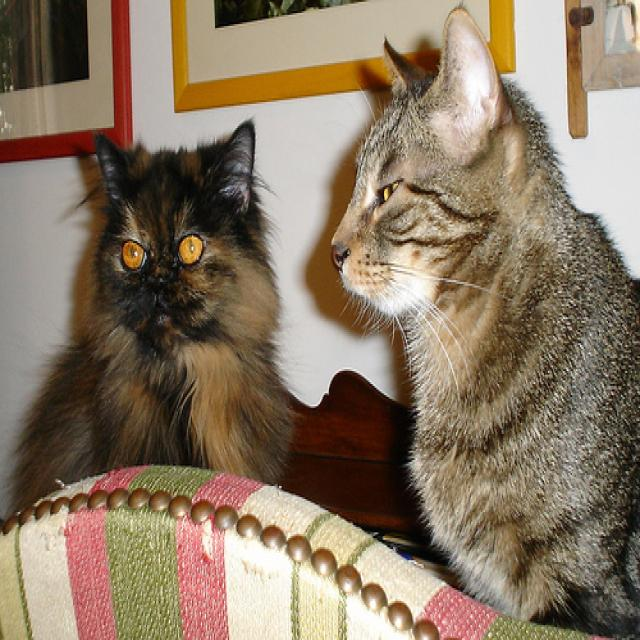cat: (330, 3, 640, 639), (5, 116, 297, 519)
